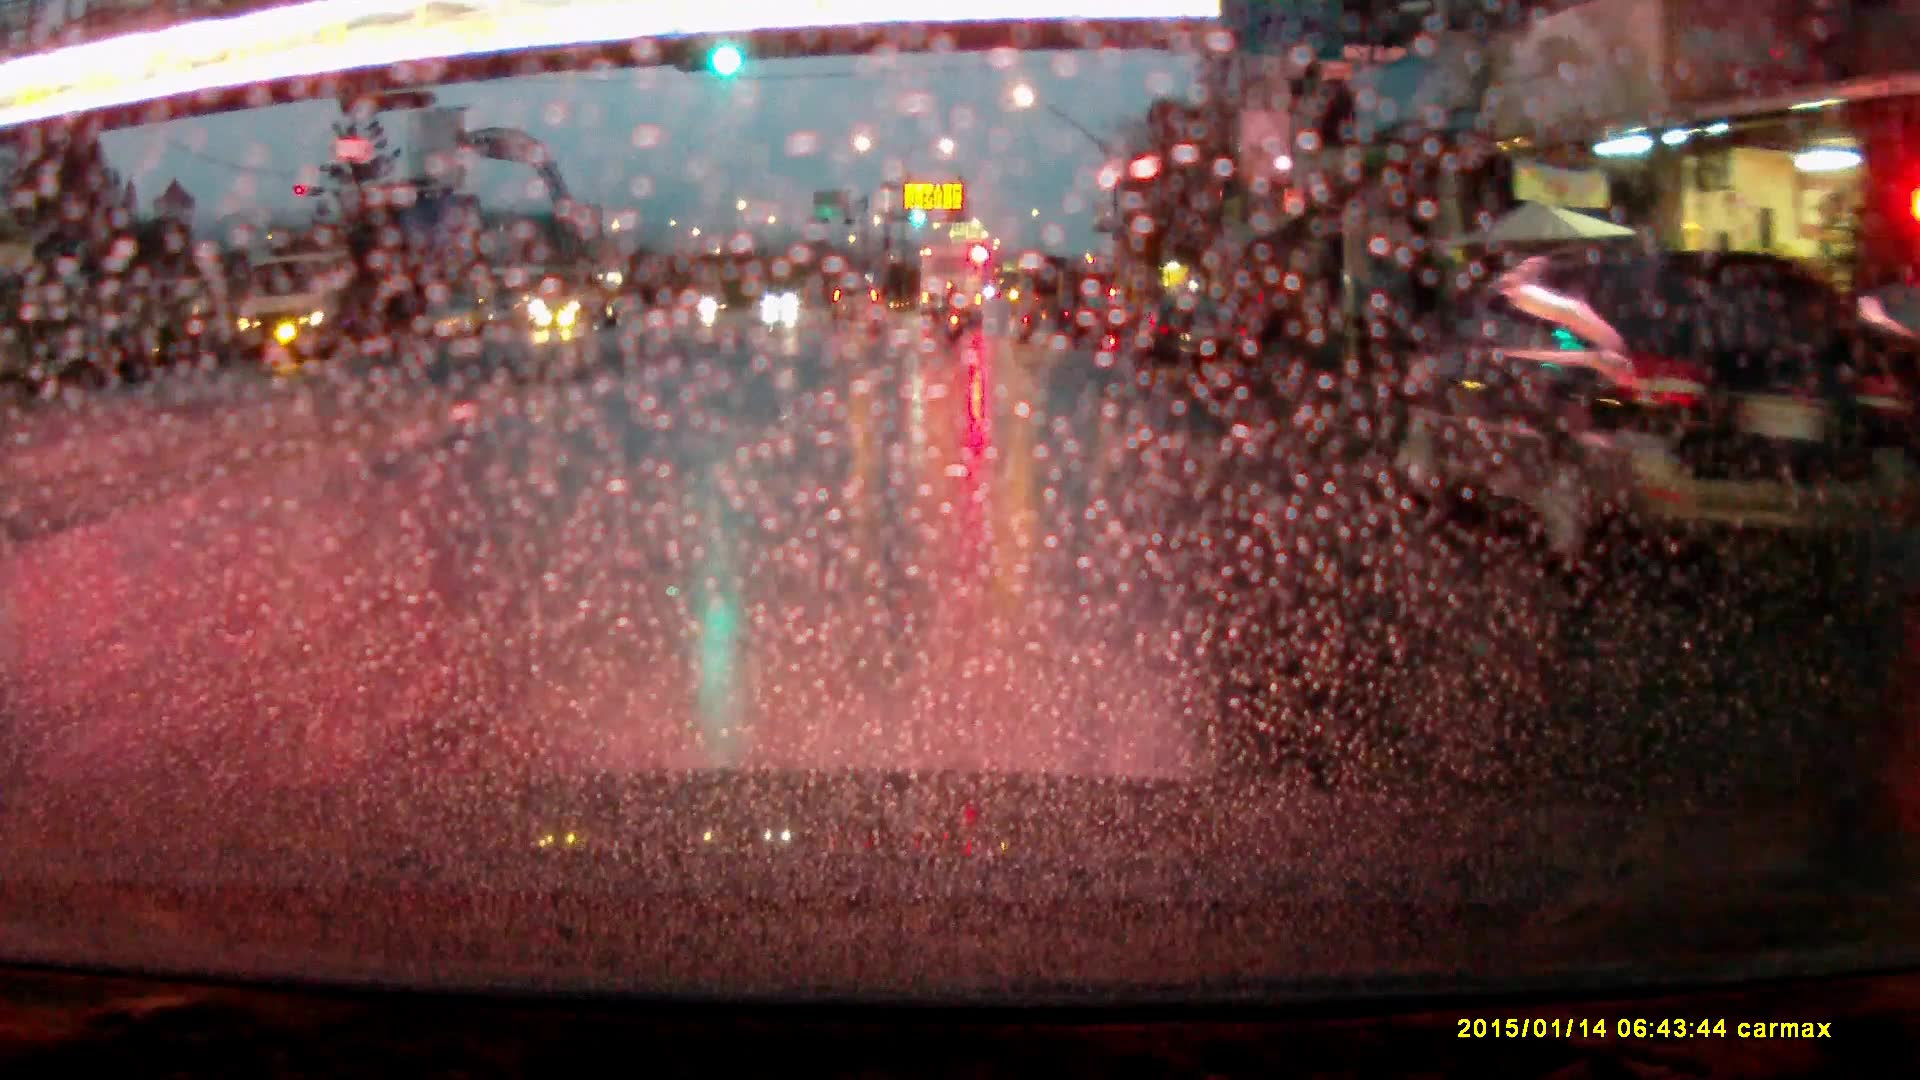rider: (945, 286, 966, 338)
vehicle: (1397, 244, 1838, 575), (233, 253, 415, 358), (1139, 297, 1250, 382), (919, 236, 986, 330), (535, 261, 628, 329), (1069, 296, 1136, 347), (829, 273, 886, 321)
